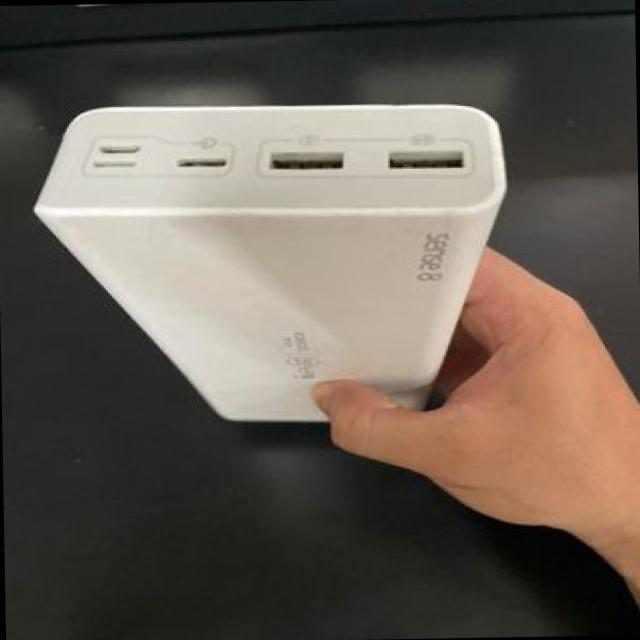power_bank: (18, 74, 524, 437)
